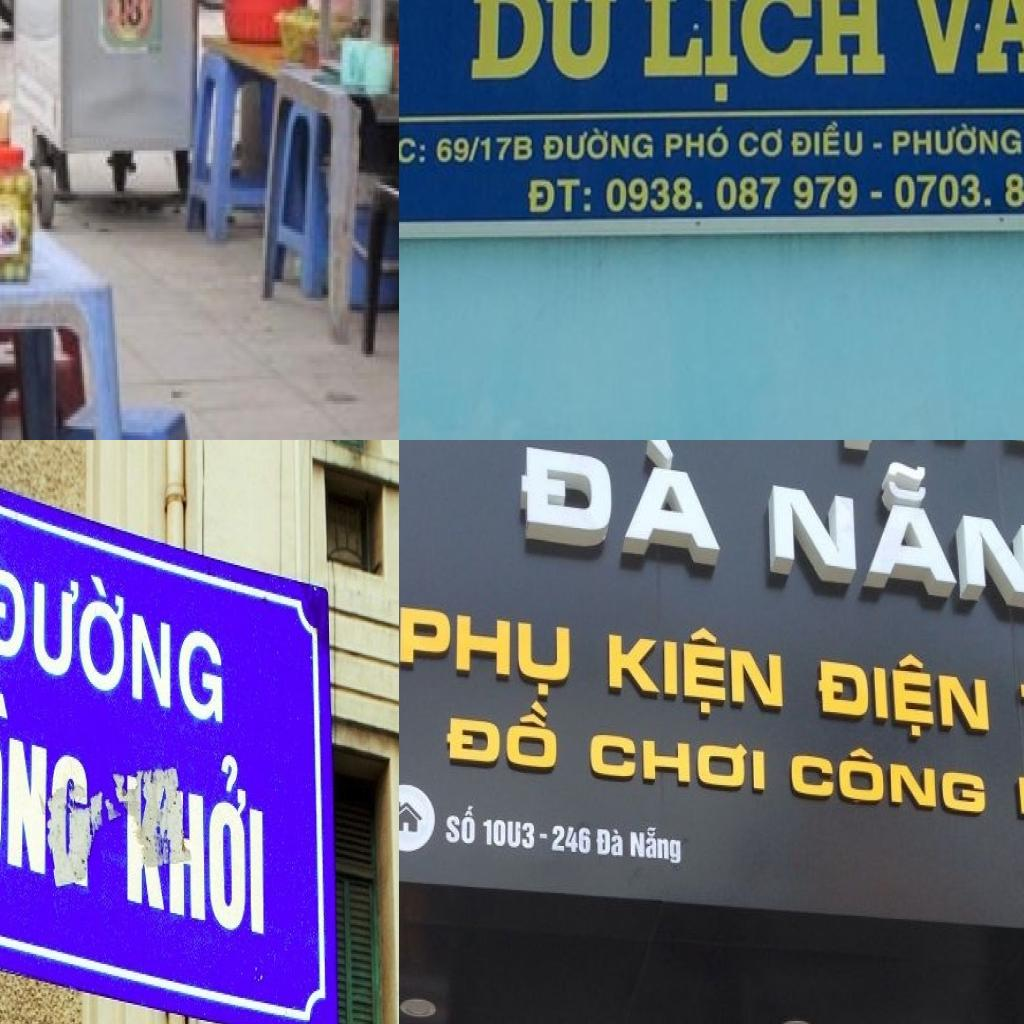text: (750, 443, 1024, 633), (0, 534, 237, 734), (510, 440, 745, 582), (638, 0, 888, 108), (0, 661, 96, 894), (807, 638, 998, 754), (598, 612, 794, 721), (782, 724, 997, 822), (399, 599, 580, 707), (577, 709, 776, 797), (434, 692, 571, 793), (465, 0, 623, 84), (604, 170, 864, 219), (894, 0, 1024, 78), (888, 116, 1024, 163), (434, 122, 537, 170), (540, 122, 654, 165), (522, 168, 597, 218), (788, 117, 871, 162), (627, 817, 686, 877), (662, 117, 732, 165), (480, 807, 541, 855), (733, 122, 788, 160), (547, 816, 594, 858), (440, 794, 476, 848), (593, 814, 627, 863), (399, 127, 427, 172)
